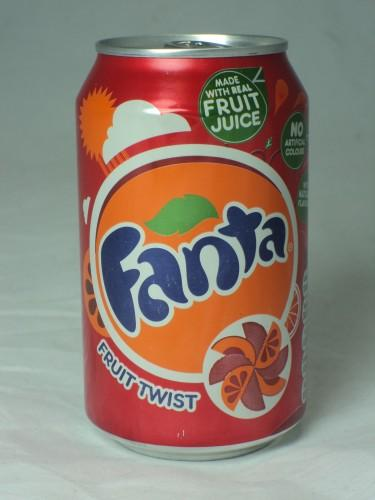metal: (76, 34, 308, 460)
